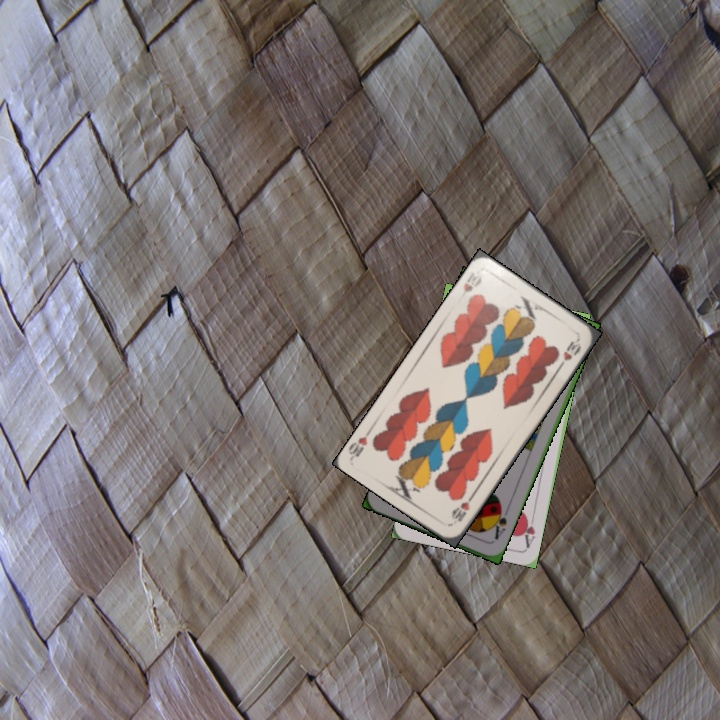H10: (447, 491, 476, 524), (457, 268, 485, 300)
HA: (518, 510, 538, 550)
SA: (487, 503, 509, 542)
